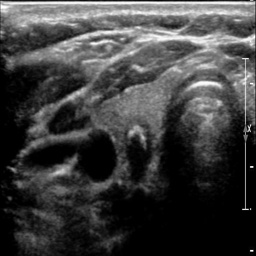mass: (122, 124, 155, 184)
